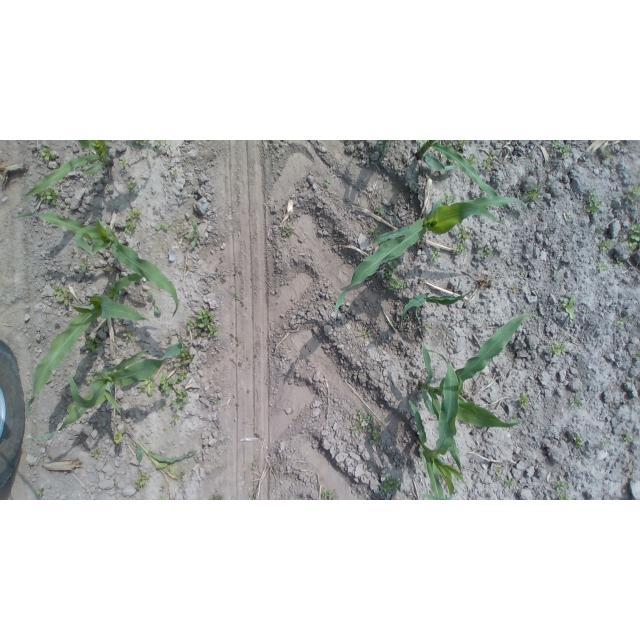Maize: (333, 195, 527, 322), (419, 315, 541, 476), (15, 211, 181, 317), (28, 270, 144, 418), (32, 342, 183, 441), (406, 351, 466, 500), (380, 141, 507, 210), (22, 141, 115, 200), (124, 430, 198, 466)
Weeds: (351, 408, 386, 446), (185, 309, 223, 340), (161, 370, 189, 411), (381, 261, 407, 292), (521, 185, 552, 204), (52, 283, 72, 311), (184, 220, 202, 249), (126, 207, 143, 235), (175, 342, 193, 367), (380, 474, 401, 495), (586, 188, 602, 214), (84, 334, 104, 354), (37, 187, 58, 205), (562, 296, 577, 320), (138, 376, 155, 397), (628, 222, 640, 251), (147, 293, 161, 316), (155, 459, 175, 475), (623, 185, 640, 203), (135, 472, 151, 491), (482, 149, 495, 171), (552, 477, 569, 492), (457, 224, 471, 242), (39, 147, 56, 161), (598, 239, 614, 253), (517, 395, 531, 410), (551, 343, 568, 355), (114, 428, 126, 444), (570, 396, 585, 408), (572, 434, 584, 449), (320, 489, 336, 500), (481, 246, 493, 260), (444, 191, 456, 205), (453, 243, 468, 254), (431, 246, 441, 262), (596, 260, 609, 272), (280, 227, 292, 240), (369, 225, 380, 239), (153, 140, 175, 146), (121, 328, 132, 340), (503, 479, 516, 489), (79, 261, 90, 272), (561, 145, 571, 157), (128, 140, 148, 146), (154, 223, 169, 231), (624, 432, 633, 445), (118, 157, 128, 168), (616, 316, 629, 324), (127, 179, 137, 189), (467, 155, 476, 165), (92, 449, 101, 459), (495, 467, 503, 478), (375, 206, 386, 214), (617, 257, 626, 266), (171, 415, 180, 424), (527, 149, 537, 157), (511, 283, 519, 293), (37, 487, 44, 498), (603, 150, 611, 159), (552, 140, 561, 148), (457, 141, 467, 148), (321, 180, 331, 187), (209, 398, 220, 404), (363, 330, 371, 338), (449, 159, 458, 166), (560, 493, 569, 500), (424, 324, 431, 333), (171, 167, 177, 177), (445, 141, 453, 148), (511, 414, 518, 422), (91, 368, 98, 376), (234, 295, 242, 302), (213, 495, 224, 500), (602, 441, 611, 447), (251, 460, 257, 469), (567, 212, 574, 219), (179, 194, 186, 201), (167, 332, 173, 340), (65, 201, 71, 208), (518, 270, 525, 276), (554, 268, 559, 276), (147, 449, 153, 455), (157, 496, 166, 500), (404, 316, 411, 321), (419, 280, 426, 285), (160, 486, 165, 493), (389, 320, 395, 325), (636, 350, 640, 357), (597, 227, 601, 234), (621, 238, 625, 243), (87, 381, 92, 385)
